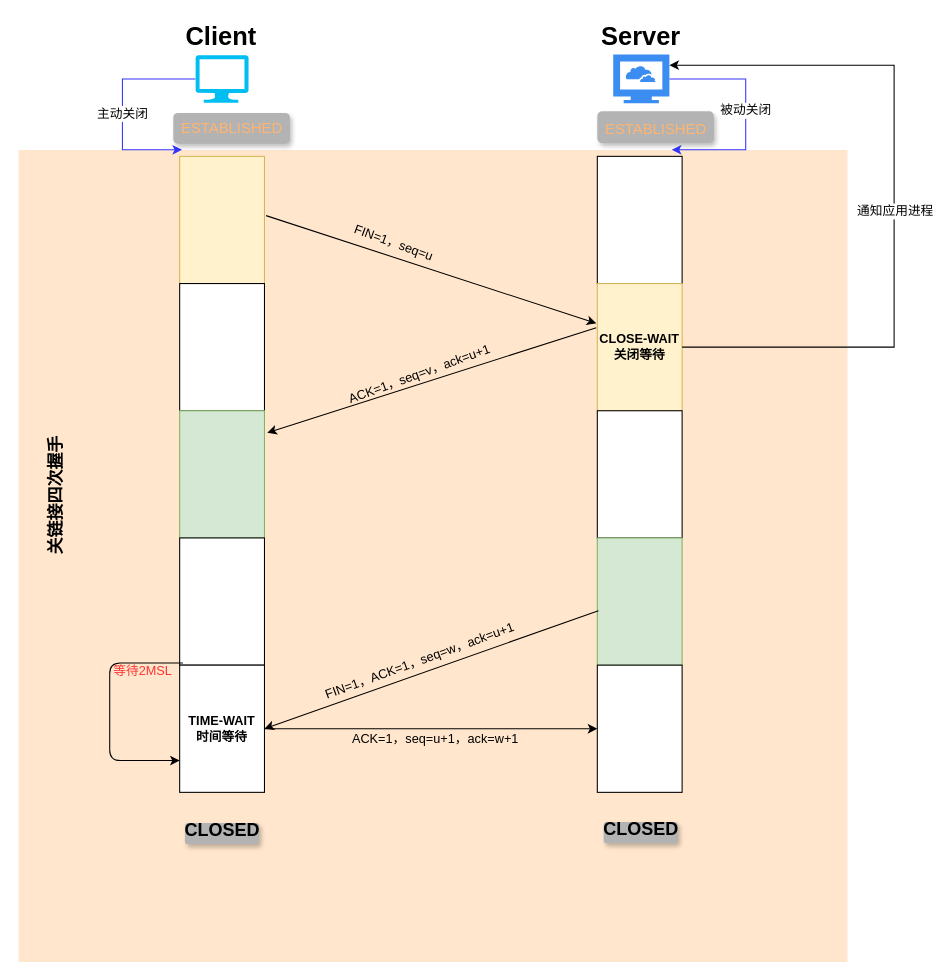
Image size: 951x980. Some labels were removed from this diagram. The shapes that lost their labels are listed below. From the top down, each one's centre as x and y in pixels, then its label:
the point at 221,219: FIN-WAIT-1 （close()） 终止等待1
the point at 221,474: FIN-WAIT-2 终止等待2
the point at 639,601: LAST-ACK （close()） 最后确认
